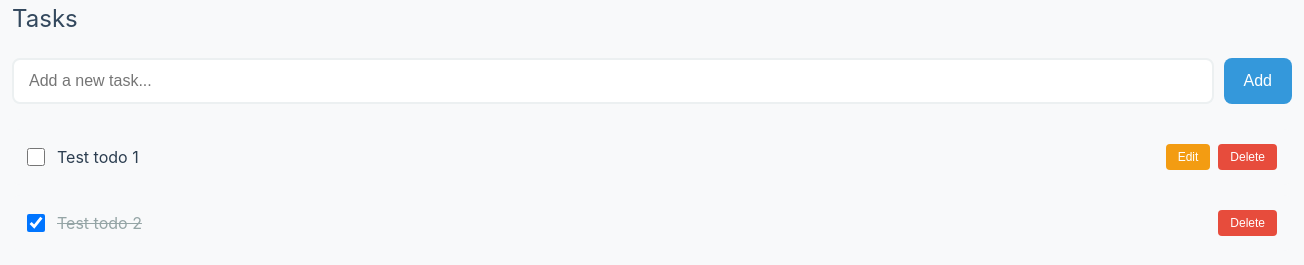
Test: TodoList Component › cancels edit mode when cancel button is clicked
Click the button "Edit": click(1188, 157) [1166,144,1210,170]
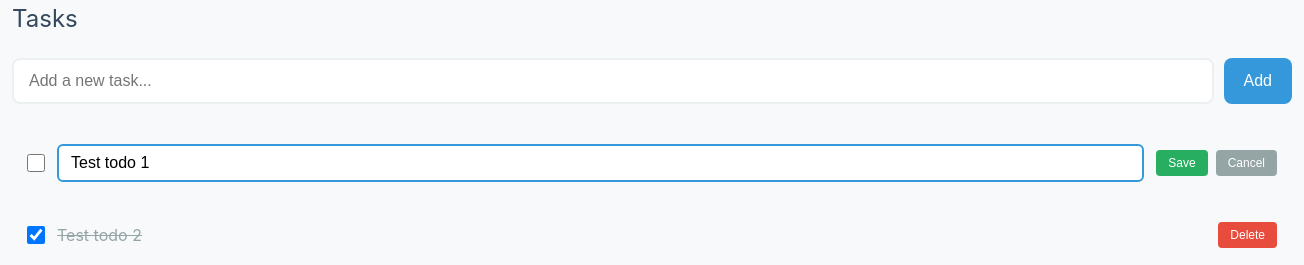
Click the button "Cancel": click(1246, 163) [1216,150,1277,176]
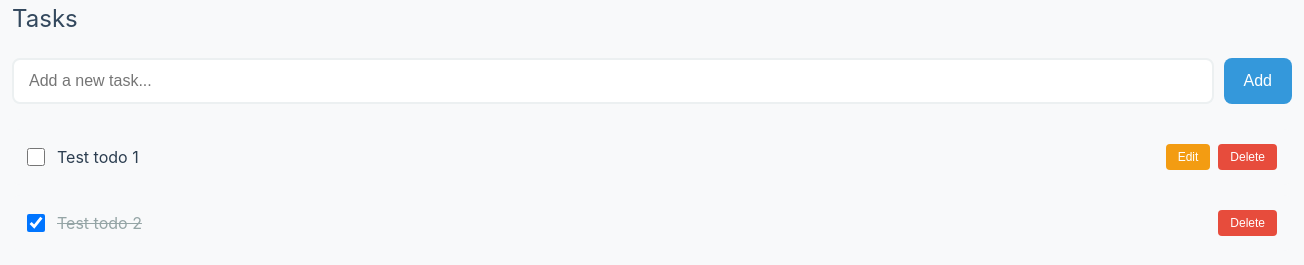
Result: the text "Test todo 1" is shown at [57,147,139,167]
